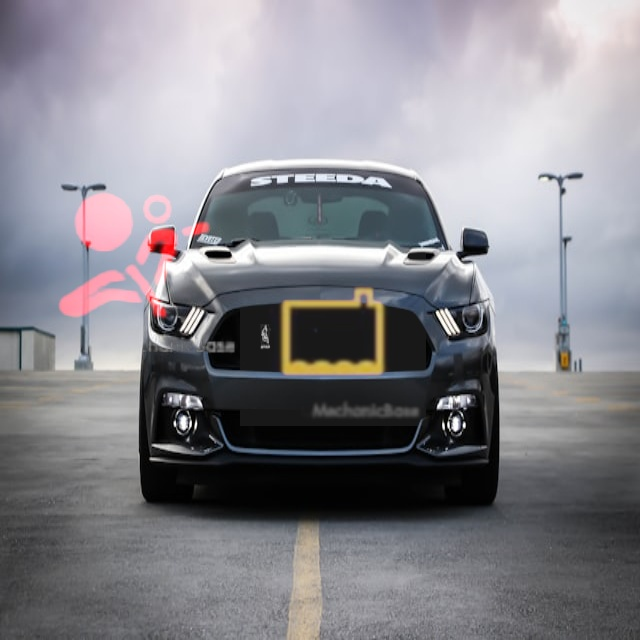symbol: (29, 149, 243, 363), (240, 240, 426, 426)
